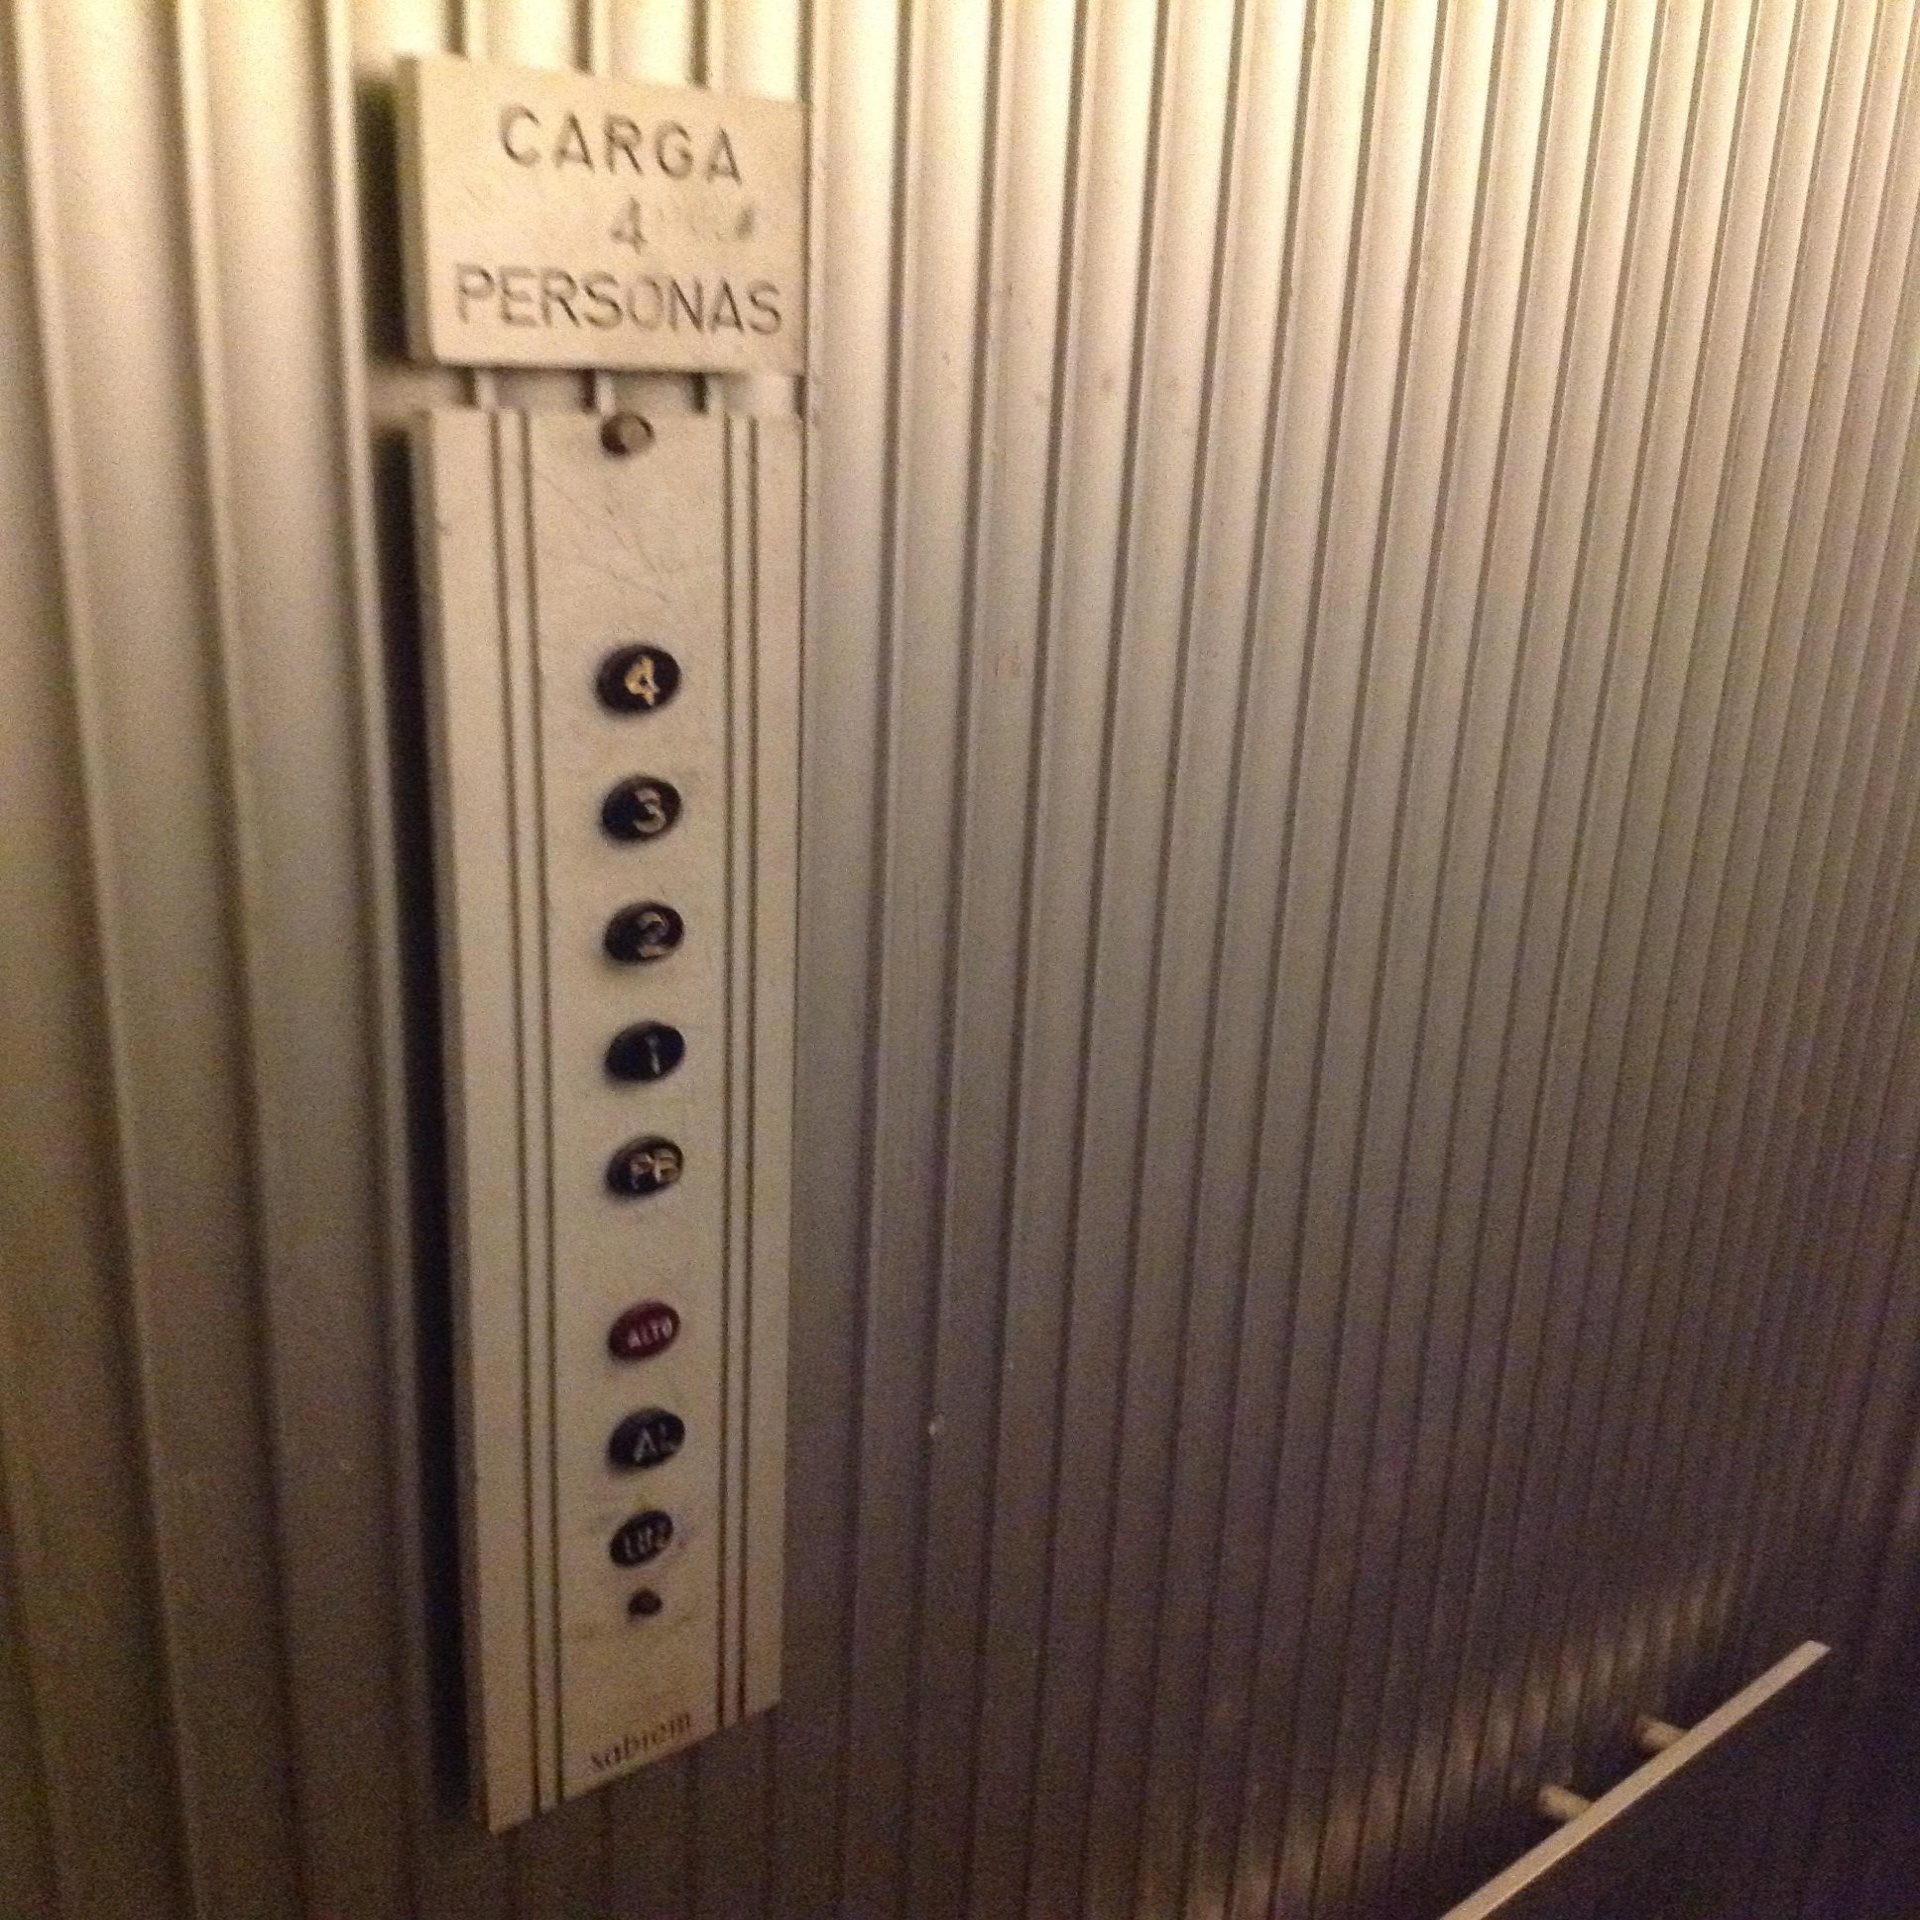1: (608, 1018, 686, 1087)
2: (605, 891, 686, 976)
3: (598, 772, 682, 849)
4: (594, 635, 682, 726)
PB: (605, 1131, 687, 1199)
text: (607, 1298, 680, 1366), (607, 1507, 675, 1570)
unknown: (605, 1401, 687, 1473)
